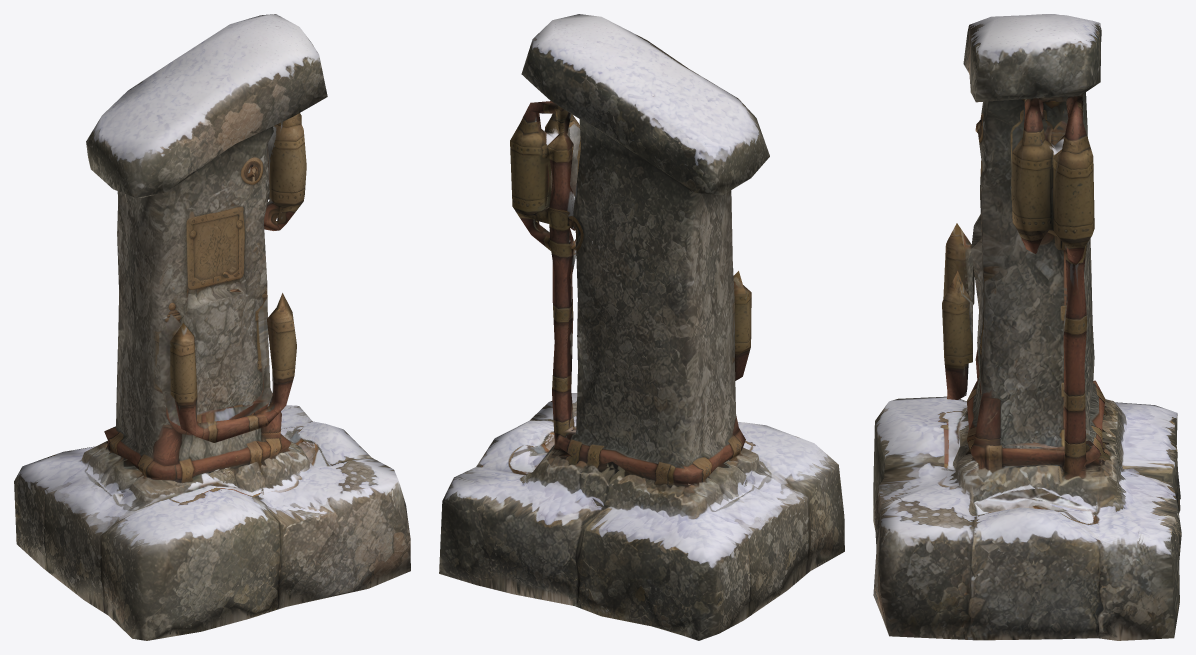
Rendered from PR_Pumgyeseok_02.fbx.
3 views of the same model, side by side, from view 1: azimuth 30°, elevation 25°; view 2: azimuth 150°, elevation 25°; view 3: azimuth 270°, elevation 25° (orthographic). The views are drawn at different scales.
Visible parts, largest first — view 1: texture_mapping; view 2: texture_mapping; view 3: texture_mapping.
Boxes of the visible parts, x1,y1,x2,y2 form: texture_mapping: (14, 14, 410, 640); texture_mapping: (439, 14, 844, 640); texture_mapping: (873, 14, 1181, 640).
Size of the model in its own units: 0.5628 by 0.4814 by 0.9936.
Materials: 1 (1 with a texture image).
